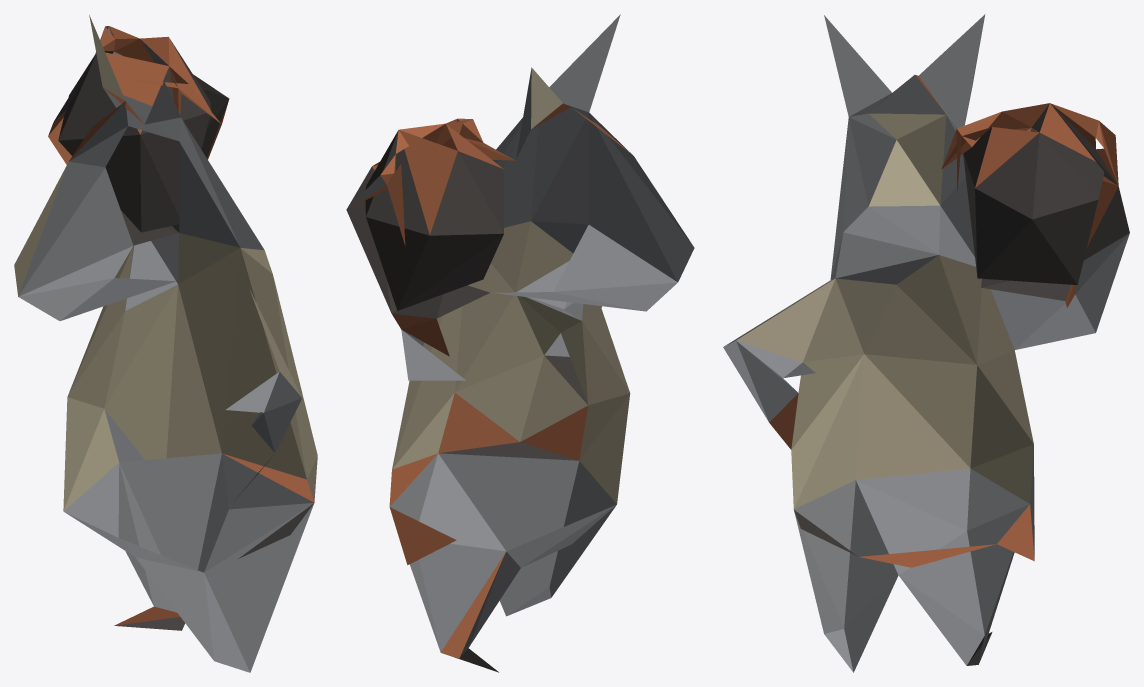
3 renders of one model, left to right at view 1: azimuth 30°, elevation 25°; view 2: azimuth 150°, elevation 25°; view 3: azimuth 270°, elevation 25°, orthographic. The views are drawn at different scales.
Parts seen in each view (by area): view 1: lion-200; view 2: lion-200; view 3: lion-200.
Boxes of the visible parts, <box> form: lion-200: <box>14,15,317,672</box>; lion-200: <box>346,14,694,672</box>; lion-200: <box>723,14,1129,672</box>.
Size of the model in its own units: 0.4831 by 0.9708 by 0.5826.
